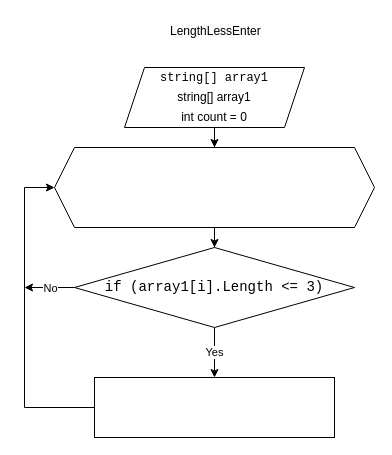
The diagram is 392 pixels wide and 455 high, and some of its shapes have lost their labels. The shapes that lost their labels are listed below. From the top down, each one's centre as x and y in pixels, then its label:
At (214,187): "for (int i = 0; i < array1.Length; i++)".
At (214,407): "array2[count] = array1[i]; count++;".
